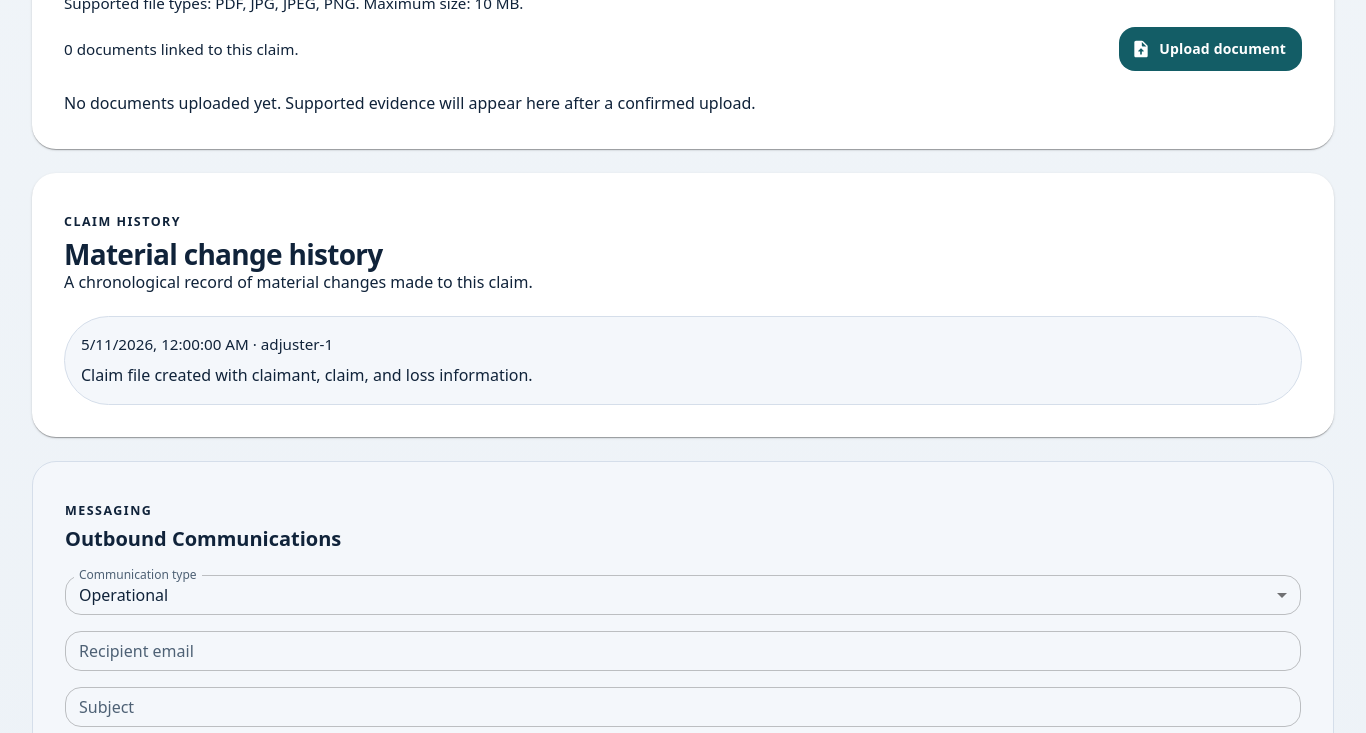
Scenario: Claim form › prefills edit values, renders audit history, and supports keyboard submission flow
(page scrolled)
Expected: the heading "Material change history" is shown, [64,235,382,273]
Expected: the text "Claim file created with claimant, claim, and loss information." is shown, [81,364,533,386]
Tab past the reconciliation and workflow buttons, then land on the first form field
Press Tab
(page scrolled)
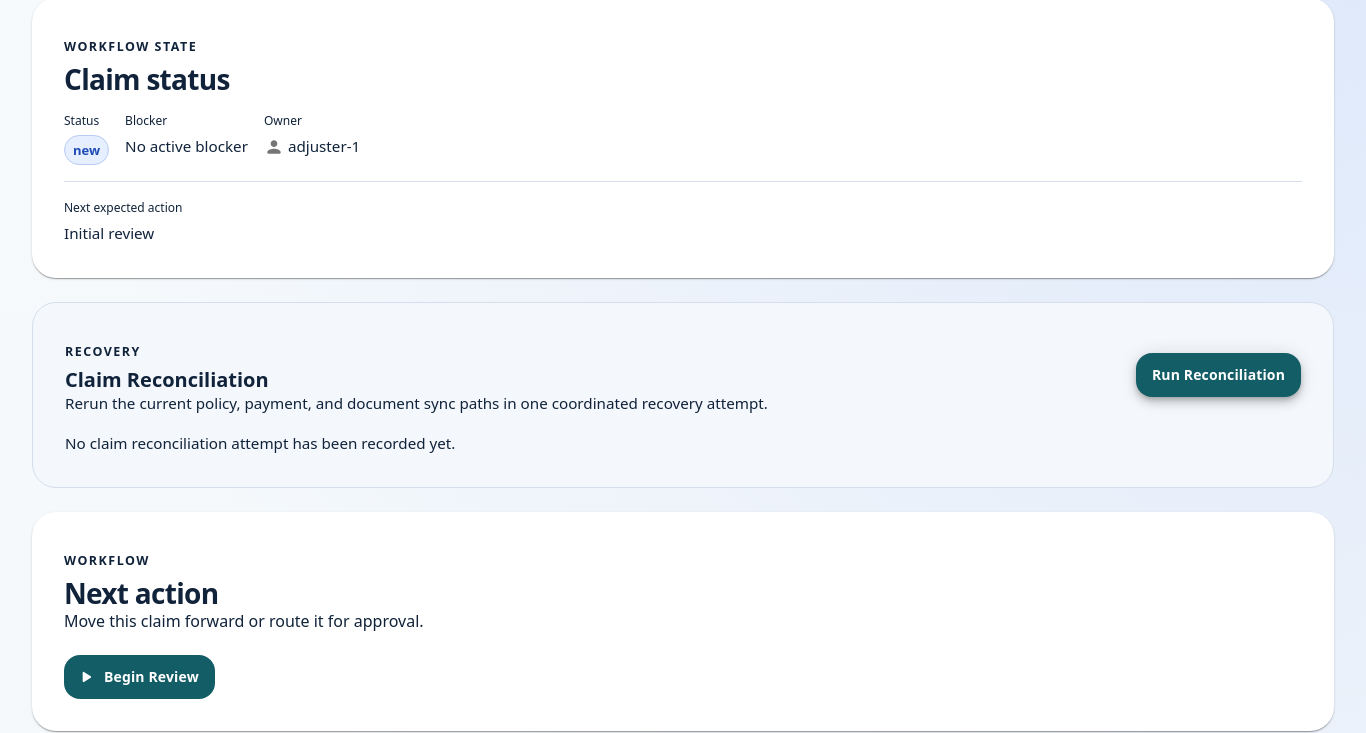
Press Tab
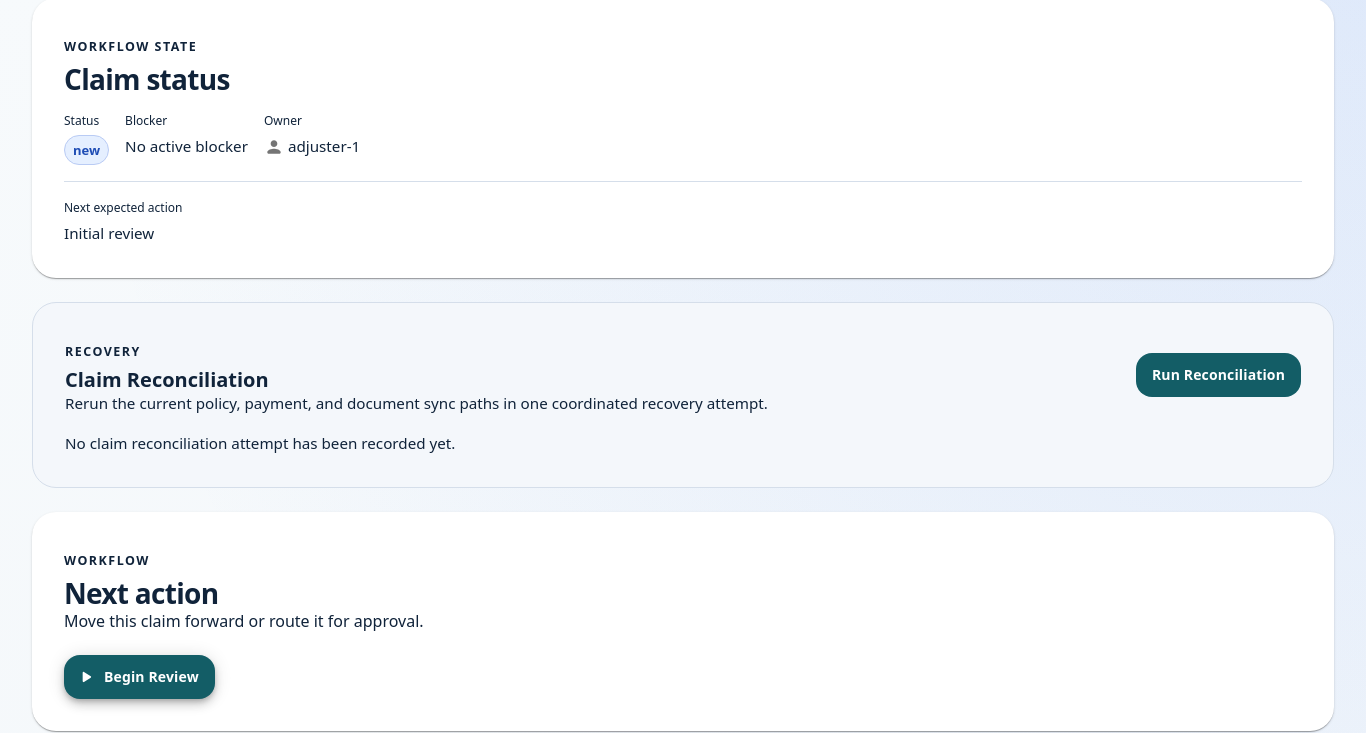
Press Tab
(page scrolled)
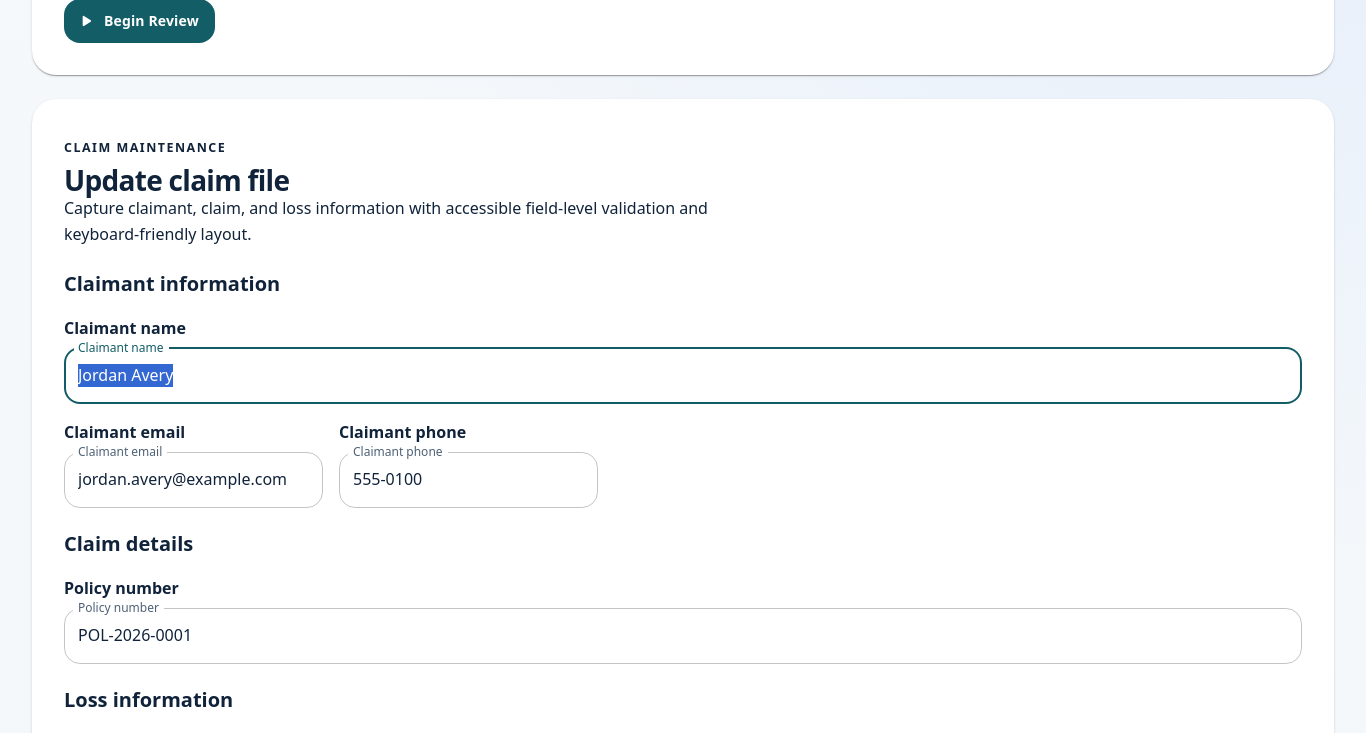
Replace the text in the field labelled "Claimant email" with "jordan.updated@example.com" at (194, 480), box [64,452,323,508]
(page scrolled)
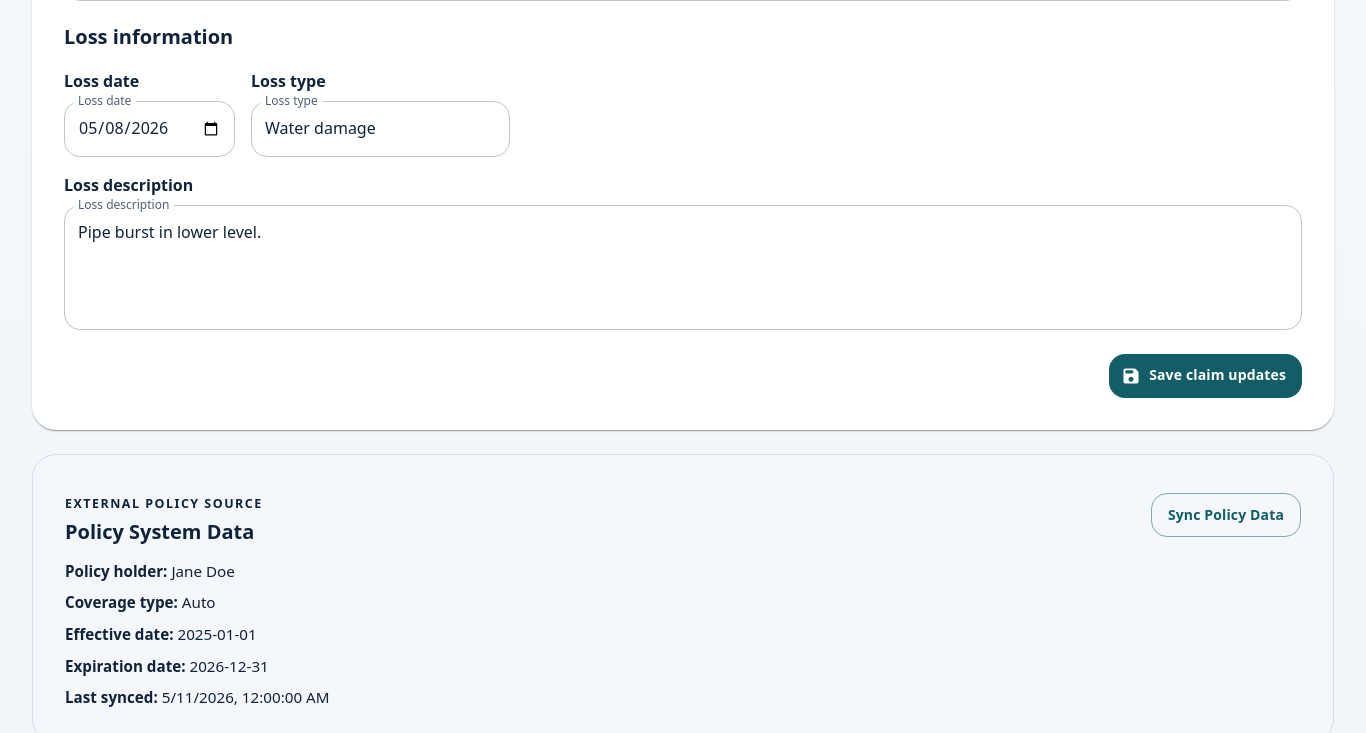
Click the button "Save claim updates" at (1206, 376), box [1109,354,1302,398]
(page scrolled)
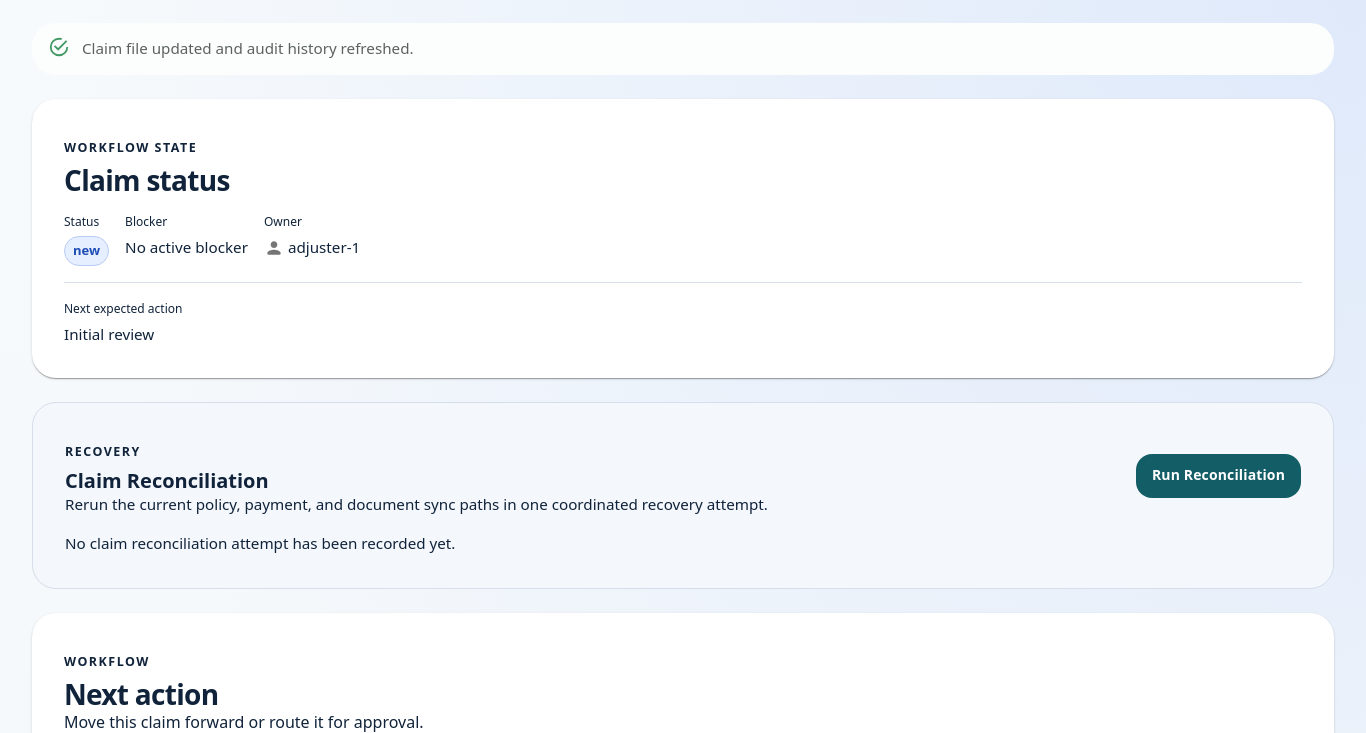
Expected: the text "Claim file updated and audit history refreshed." is shown, [82,38,414,58]
